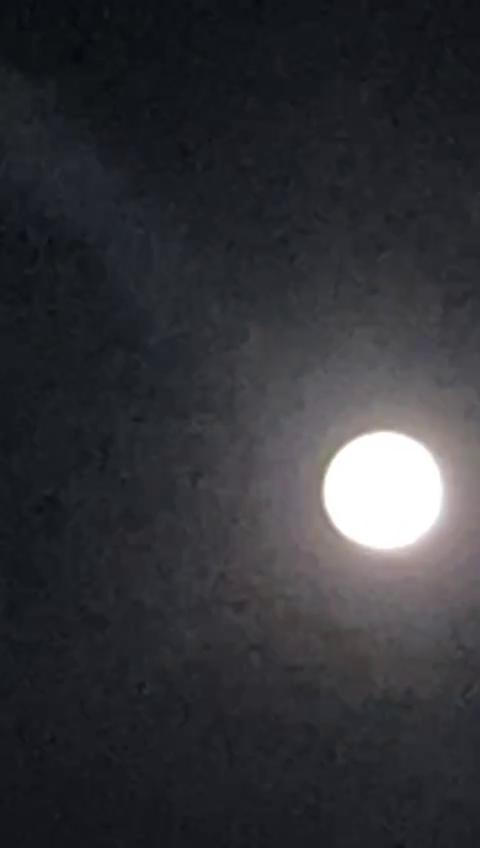moon: (313, 424, 462, 572)
